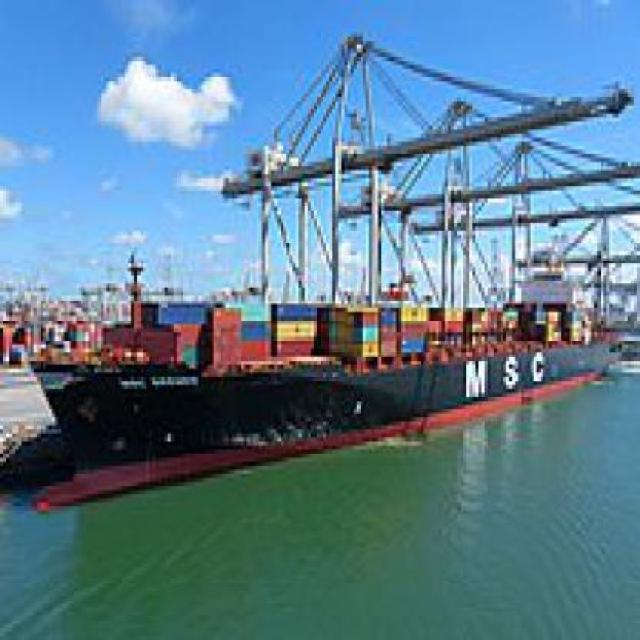container: (23, 240, 632, 520)
